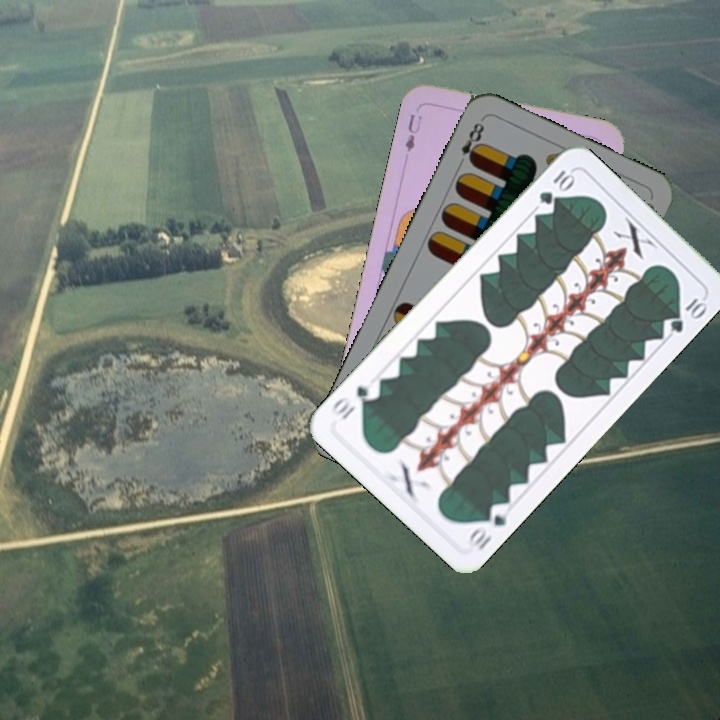E8: (453, 118, 487, 171)
EU: (401, 110, 425, 154)
G10: (463, 498, 513, 553), (534, 165, 577, 208)
